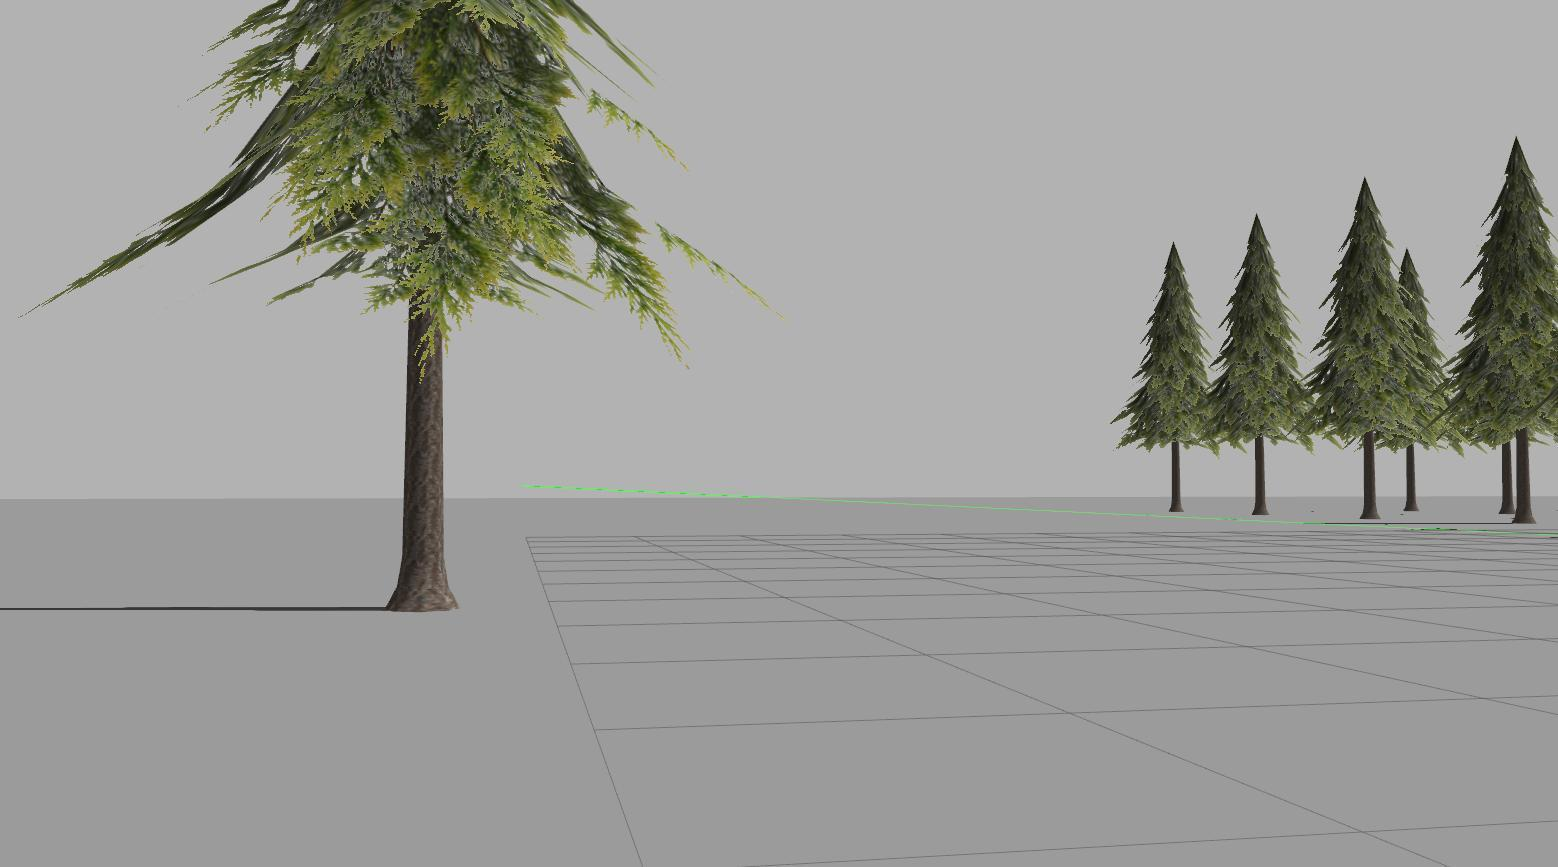tree_gazebo: (64, 0, 682, 612), (1308, 179, 1448, 520), (1208, 219, 1311, 513), (1114, 247, 1218, 515)
